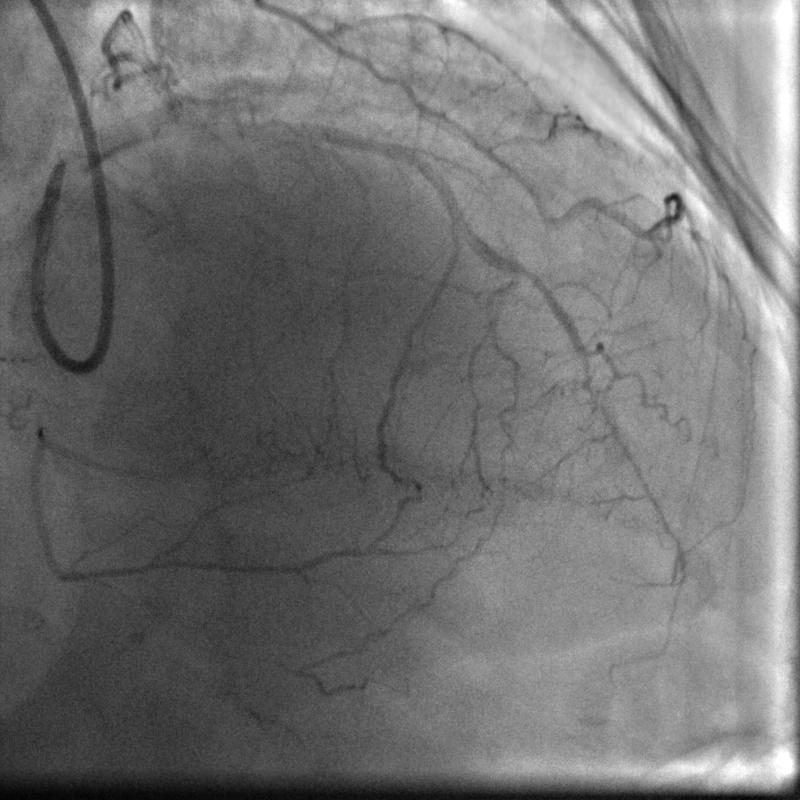Stenosis: (149, 97, 179, 129)
